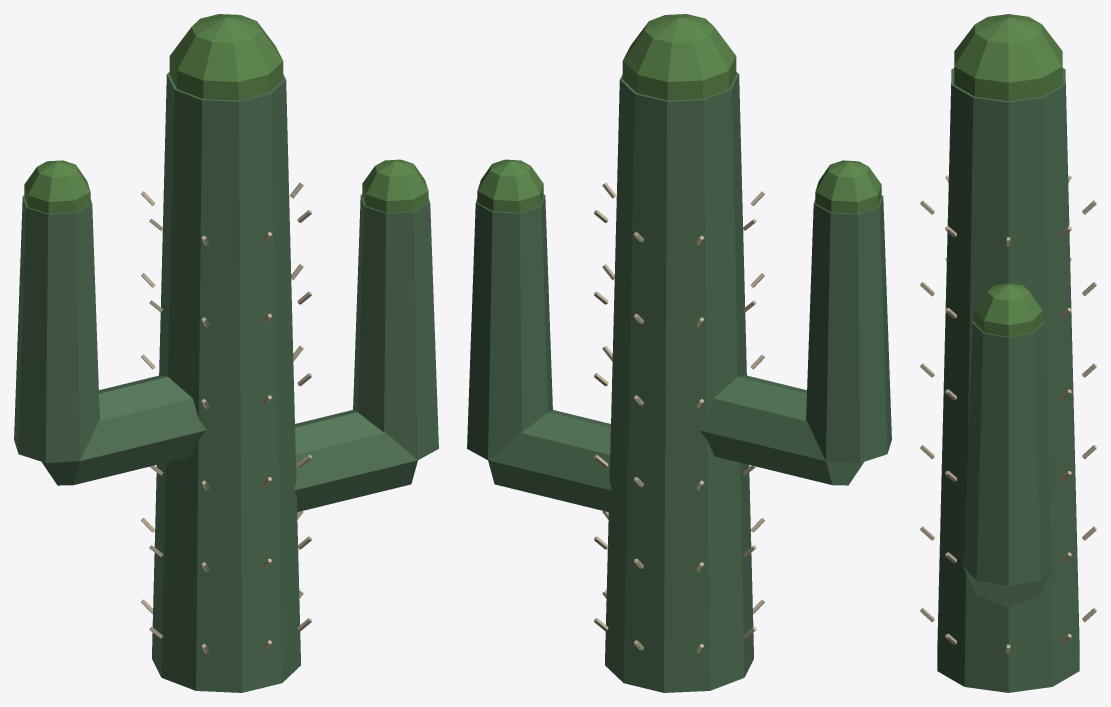
The model's file is vegetation-cactus-branch.lod0.glb.
3 renders of one model, left to right at view 1: azimuth 30°, elevation 25°; view 2: azimuth 150°, elevation 25°; view 3: azimuth 270°, elevation 25°, orthographic.
Visible parts, largest first — view 1: vegetation-cactus-branch__body; view 2: vegetation-cactus-branch__body; view 3: vegetation-cactus-branch__body.
Boxes of the visible parts, <box> form: vegetation-cactus-branch__body: <box>14,14,438,692</box>; vegetation-cactus-branch__body: <box>467,14,891,692</box>; vegetation-cactus-branch__body: <box>920,14,1096,692</box>.
Bounding box in the file's own units: 1.6 × 2.37 × 0.5878.
